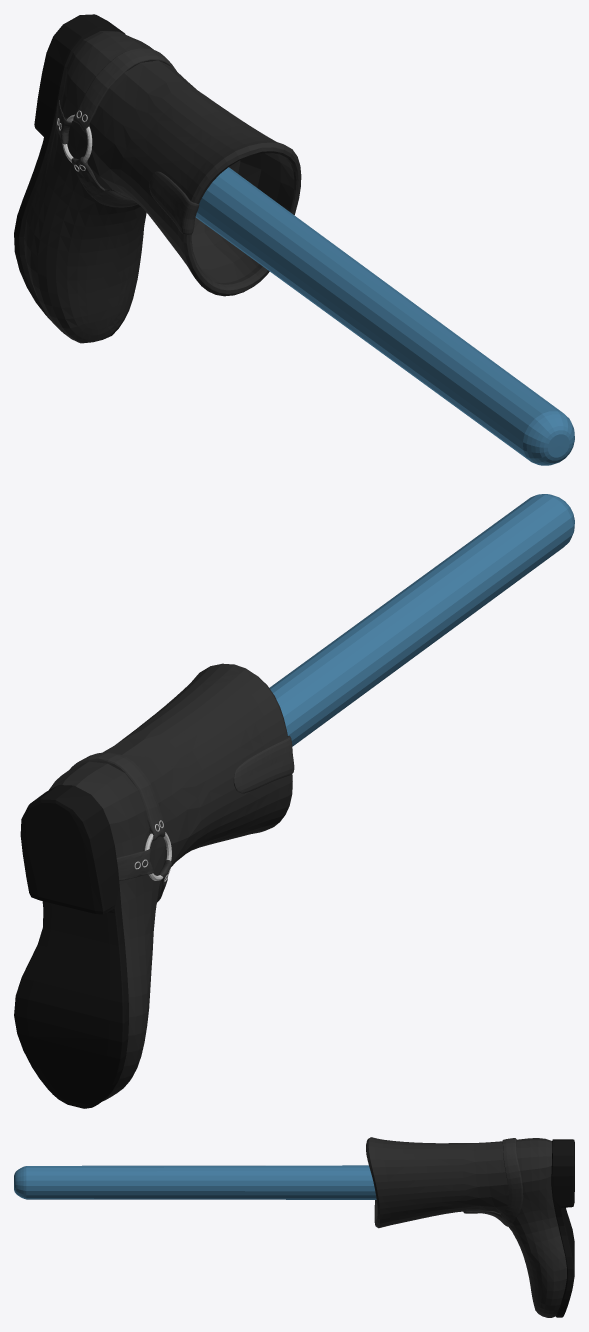
File: leg.obj
3 renders of one model, top to bottom at view 1: azimuth 30°, elevation 25°; view 2: azimuth 150°, elevation 25°; view 3: azimuth 270°, elevation 25°, orthographic. The views are drawn at different scales.
Parts seen in each view (by area): view 1: Object.1; view 2: Object.1; view 3: Object.1.
Part boxes in pixels (x1,y1,x2,y2): Object.1: (14, 14, 574, 465); Object.1: (14, 494, 574, 1108); Object.1: (14, 1137, 574, 1317).
Size of the model in its own units: 49.75 by 125 by 357.
Materials: 1 (1 with a texture image).
